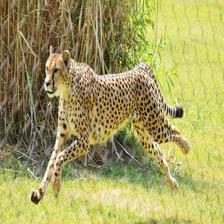Cheetah: (30, 44, 196, 206)
